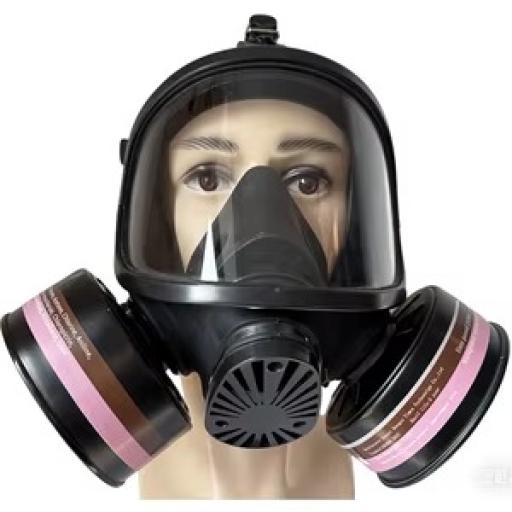mask: (0, 35, 512, 496)
